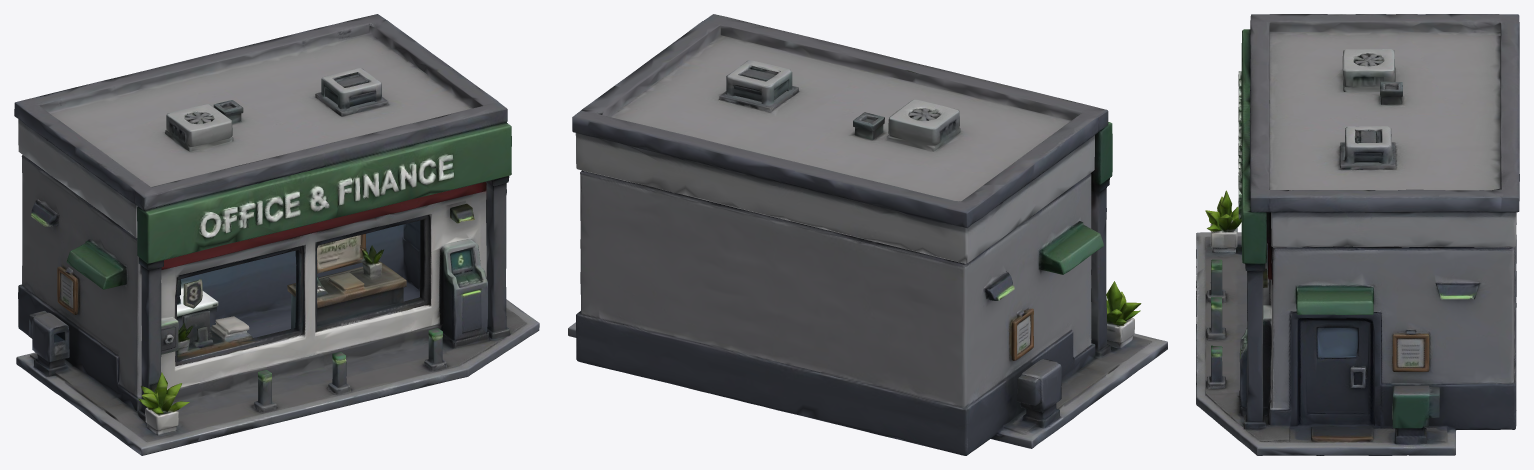
Rendered from office_finance_1k_real.glb.
3 views of the same model, side by side, from view 1: azimuth 30°, elevation 25°; view 2: azimuth 150°, elevation 25°; view 3: azimuth 270°, elevation 25° (orthographic). The views are drawn at different scales.
Parts seen in each view (by area): view 1: tripo_node_06988735-4785-4e76-ae6c-f22da66daa72; view 2: tripo_node_06988735-4785-4e76-ae6c-f22da66daa72; view 3: tripo_node_06988735-4785-4e76-ae6c-f22da66daa72.
Part boxes in pixels (<box>): tripo_node_06988735-4785-4e76-ae6c-f22da66daa72: <box>14,14,539,455</box>; tripo_node_06988735-4785-4e76-ae6c-f22da66daa72: <box>568,14,1167,455</box>; tripo_node_06988735-4785-4e76-ae6c-f22da66daa72: <box>1196,14,1519,455</box>.
Bounding box in the file's own units: 1 × 0.5485 × 0.6339.
1 material, 1 textured.
